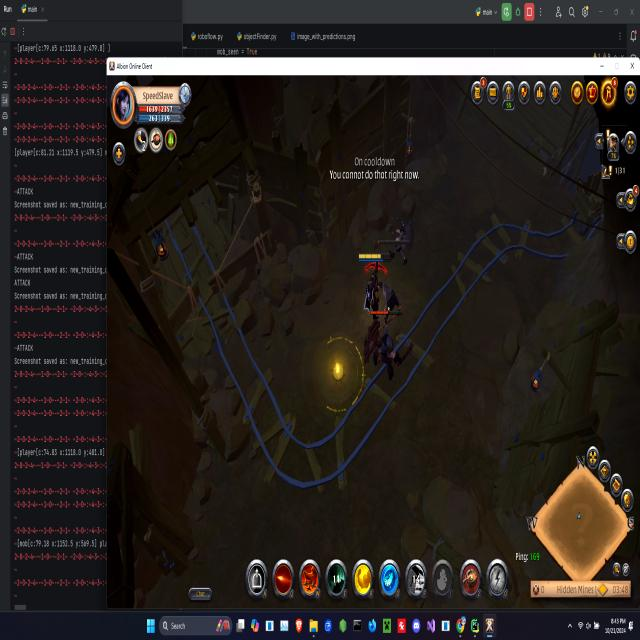ore: (363, 305, 405, 391), (374, 237, 411, 325)
red: (358, 249, 388, 316)
